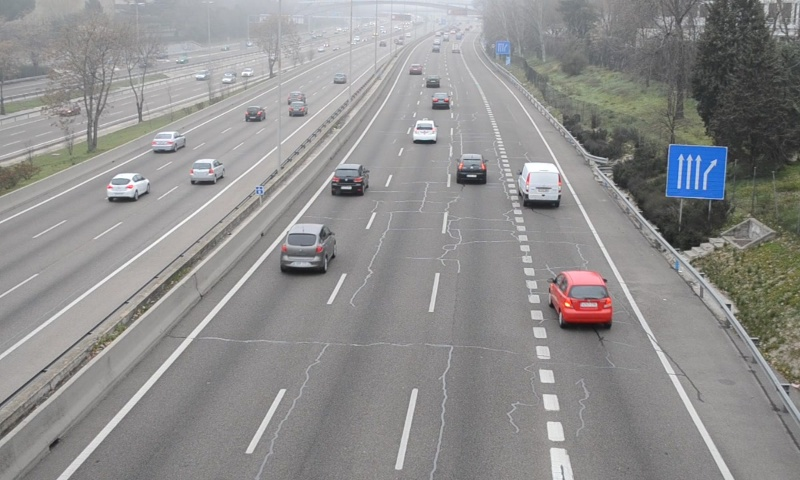car: (550, 270, 613, 324), (282, 224, 335, 272), (330, 164, 368, 196), (457, 152, 486, 184), (411, 119, 436, 142), (430, 92, 450, 111)
van: (520, 162, 562, 207)
